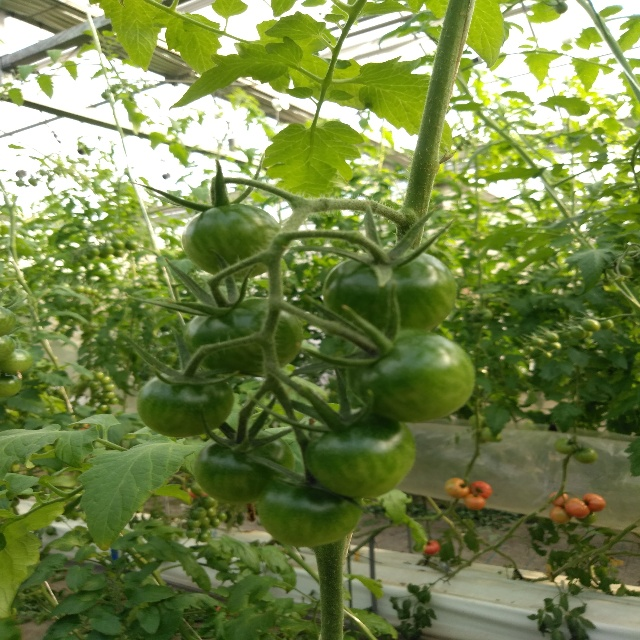l_green: (347, 329, 476, 423), (322, 248, 458, 335), (305, 409, 415, 499), (183, 297, 303, 377), (258, 473, 363, 548), (182, 203, 283, 279), (194, 430, 294, 504), (137, 369, 234, 438), (0, 349, 32, 377), (0, 372, 22, 396), (1, 306, 17, 338), (1, 335, 16, 364)
